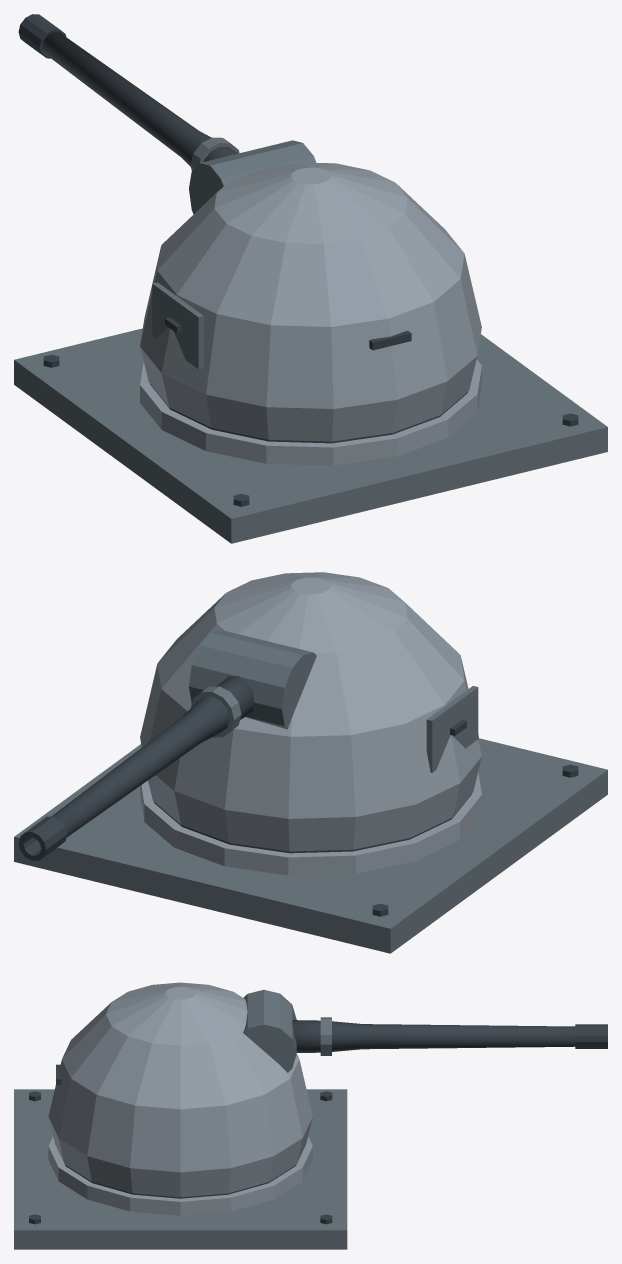
Rendered from MOD_Gun76.fbx.
3 views of the same model, one above another, from view 1: azimuth 30°, elevation 25°; view 2: azimuth 150°, elevation 25°; view 3: azimuth 270°, elevation 25° (orthographic). The views are drawn at different scales.
Visible parts, largest first — view 1: RoundedOTOInspiredShield, FixedDeckFoot, FixedBearingPlinth, ElevationPivot_Visual_Gunmetal, ElevationPivot_Visual_Deck_Grey, PortRemovableServicePanel, MOD_Gun76_Root_Visual_Gunmetal; view 2: RoundedOTOInspiredShield, FixedDeckFoot, FixedBearingPlinth, ElevationPivot_Visual_Gunmetal, ElevationPivot_Visual_Deck_Grey, PortRemovableServicePanel, MOD_Gun76_Root_Visual_Gunmetal; view 3: RoundedOTOInspiredShield, FixedDeckFoot, ElevationPivot_Visual_Gunmetal, FixedBearingPlinth, ElevationPivot_Visual_Deck_Grey, MOD_Gun76_Root_Visual_Gunmetal.
Part boxes in pixels (x1=…): RoundedOTOInspiredShield: x1=140, y1=162, x2=481, y2=441; FixedDeckFoot: x1=14, y1=328, x2=607, y2=543; FixedBearingPlinth: x1=140, y1=359, x2=481, y2=465; ElevationPivot_Visual_Gunmetal: x1=18, y1=14, x2=237, y2=166; ElevationPivot_Visual_Deck_Grey: x1=189, y1=137, x2=316, y2=214; PortRemovableServicePanel: x1=152, y1=282, x2=203, y2=369; MOD_Gun76_Root_Visual_Gunmetal: x1=43, y1=354, x2=578, y2=506; RoundedOTOInspiredShield: x1=140, y1=572, x2=481, y2=851; FixedDeckFoot: x1=14, y1=738, x2=607, y2=953; FixedBearingPlinth: x1=140, y1=772, x2=481, y2=875; ElevationPivot_Visual_Gunmetal: x1=18, y1=676, x2=253, y2=860; ElevationPivot_Visual_Deck_Grey: x1=189, y1=630, x2=316, y2=737; PortRemovableServicePanel: x1=426, y1=686, x2=478, y2=772; MOD_Gun76_Root_Visual_Gunmetal: x1=154, y1=764, x2=578, y2=916; RoundedOTOInspiredShield: x1=48, y1=982, x2=312, y2=1197; FixedDeckFoot: x1=14, y1=1089, x2=347, y2=1249; ElevationPivot_Visual_Gunmetal: x1=292, y1=1020, x2=607, y2=1052; FixedBearingPlinth: x1=48, y1=1136, x2=312, y2=1215; ElevationPivot_Visual_Deck_Grey: x1=243, y1=989, x2=331, y2=1072; MOD_Gun76_Root_Visual_Gunmetal: x1=29, y1=1091, x2=332, y2=1224.
Size of the model in its own units: 174 by 107 by 310.
